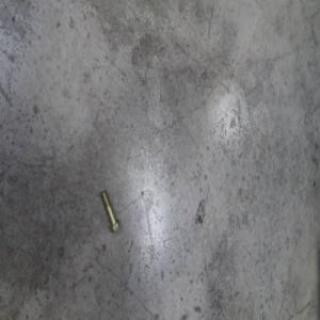Bolttrack_idkeyframe: (99, 188, 119, 234)
